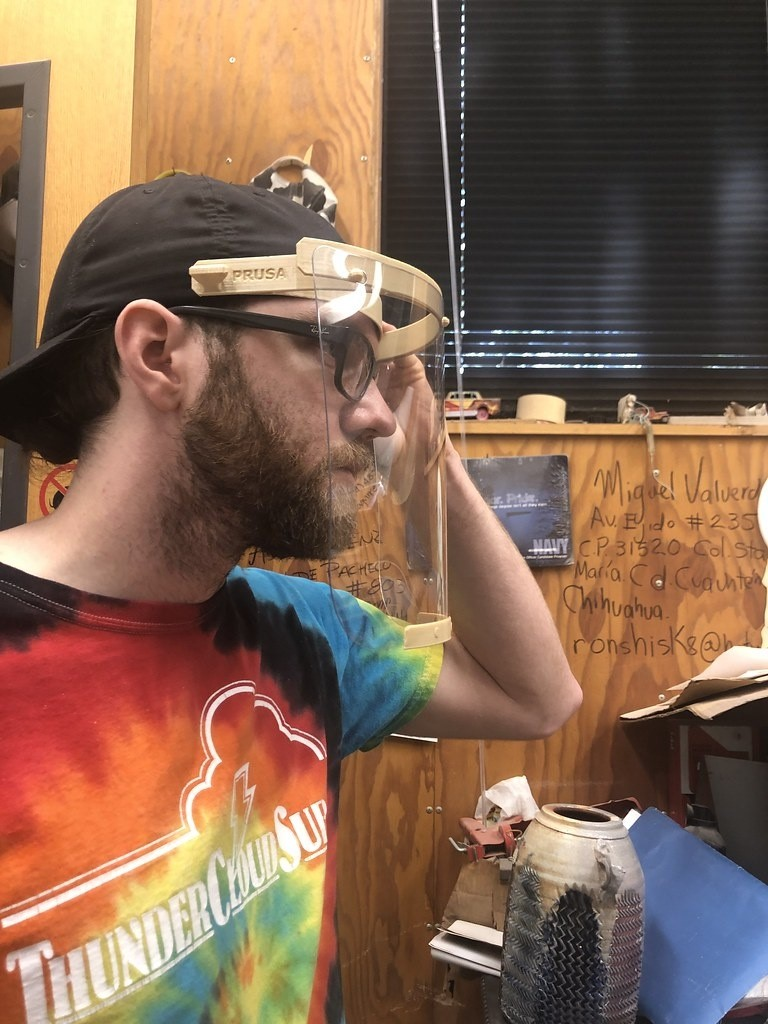face_no_mask: (128, 194, 392, 563)
